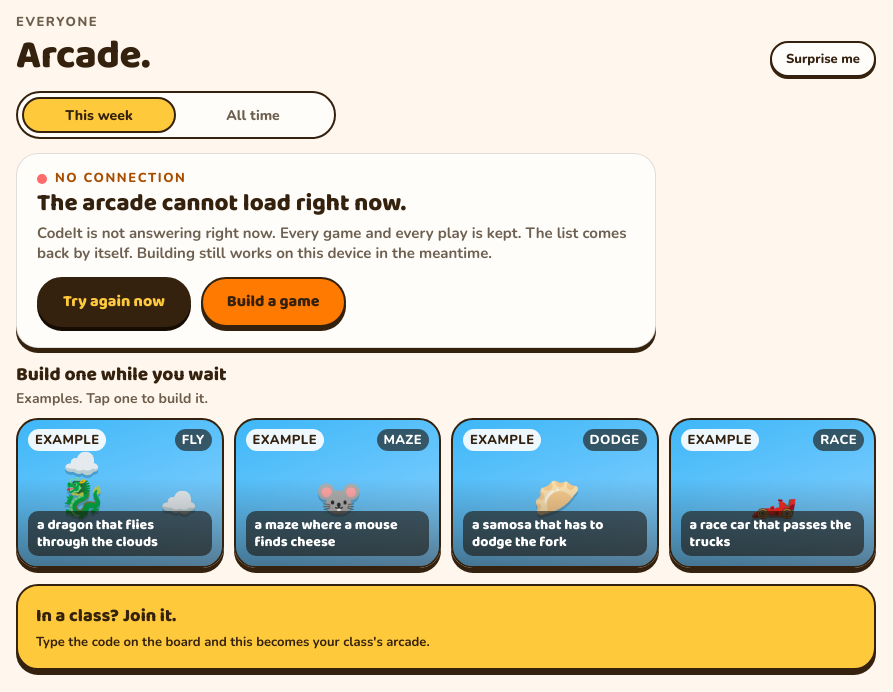
Test: offline, the arcade says the games are kept, comes back on retry, and offers building meanwhile
The image size is (893, 692).
Check: the heading "The arcade cannot load right now." is shown, box [37,184,406,223]
Check: the text "Every game and every play is kept" is shown, box [37,223,627,263]
Click the button "Try again now" at [114, 302], box [37,277,191,327]
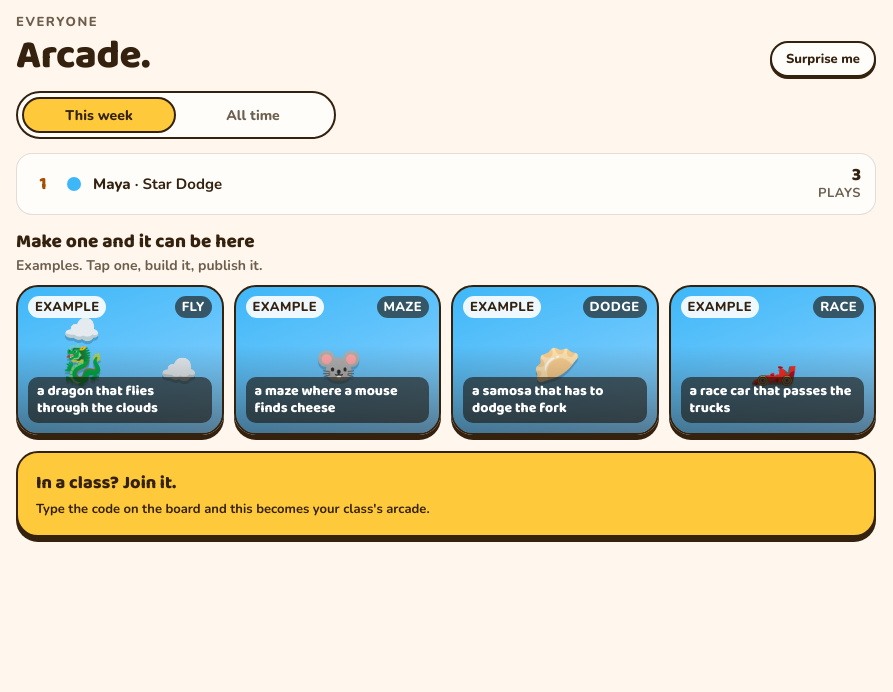
Check: the text "Maya · Star Dodge" is shown, box [93,174,222,194]
Check: the heading "The arcade cannot load right now." is gone
